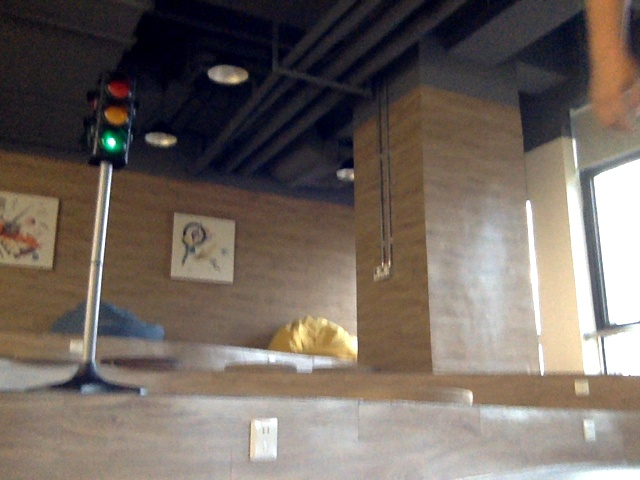green: (96, 78, 134, 154)
